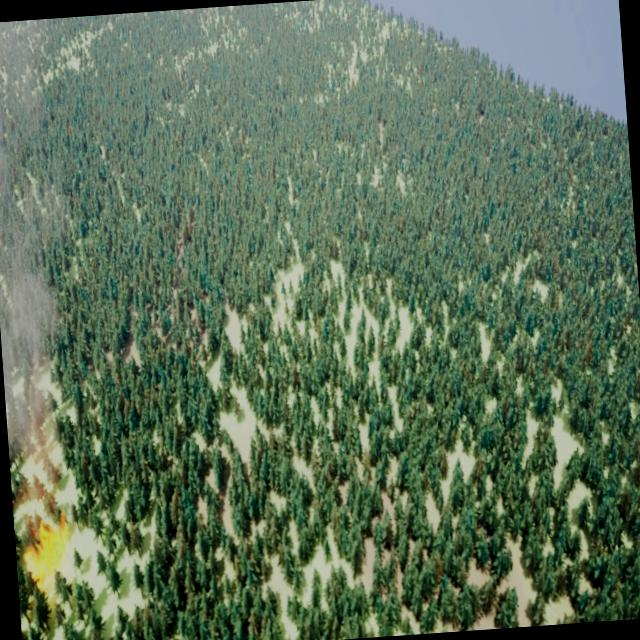fire: (20, 510, 74, 597)
smoke: (0, 113, 76, 494)
